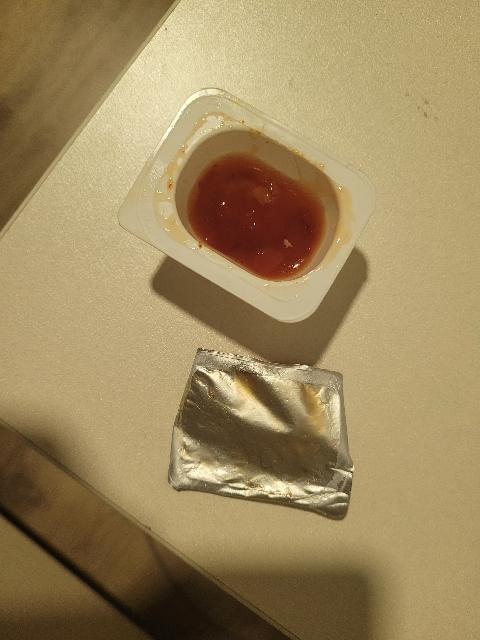Metal: (161, 346, 367, 521)
Plastik: (117, 85, 387, 328)
